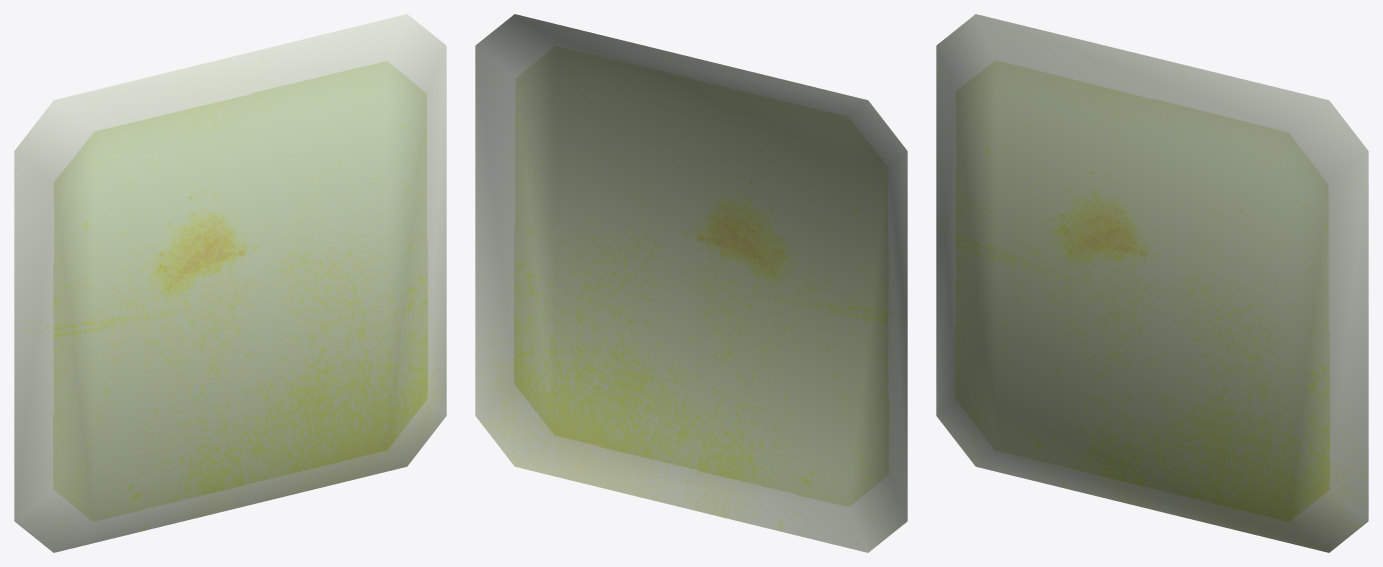
Rendered from SignNumber.fbx.
3 views of the same model, side by side, from view 1: azimuth 30°, elevation 25°; view 2: azimuth 150°, elevation 25°; view 3: azimuth 330°, elevation 25° (orthographic).
Parts seen in each view (by area): view 1: sign_numbers; view 2: sign_numbers; view 3: sign_numbers.
Boxes of the visible parts, x1,y1,x2,y2 form: sign_numbers: (14, 14, 446, 552); sign_numbers: (475, 14, 907, 552); sign_numbers: (936, 14, 1368, 552).
Size of the model in its own units: 22.27 by 22.27 by 0.9116.
